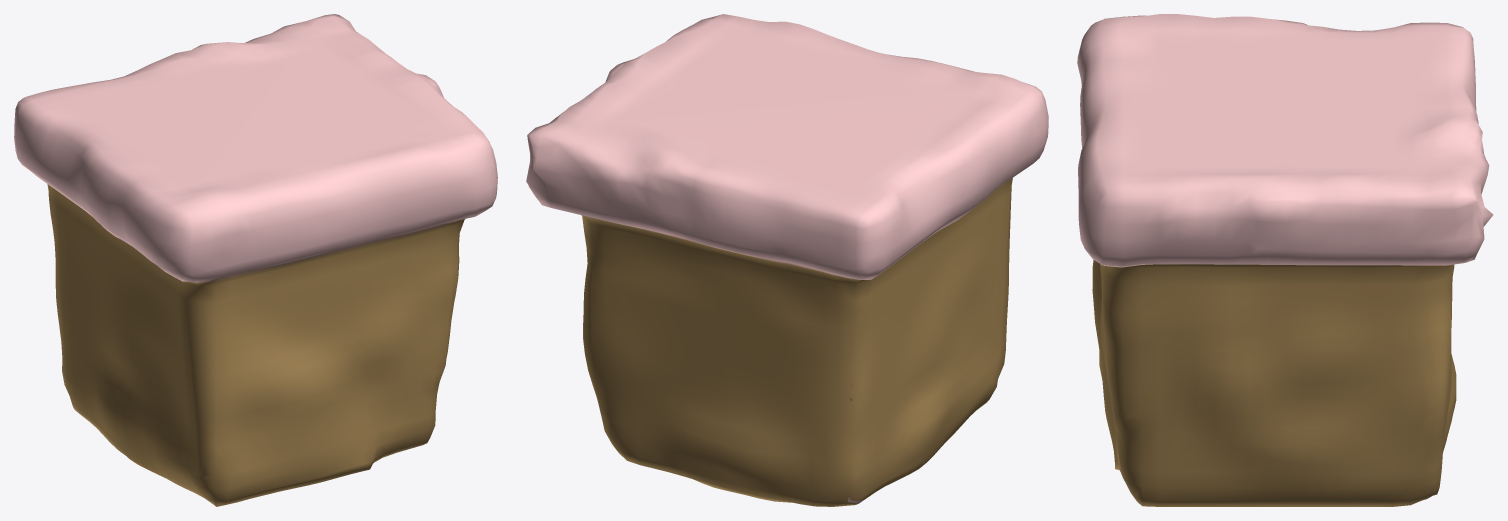
File: Ground2.fbx
The picture shows the model from 3 angles, left to right: view 1: azimuth 30°, elevation 25°; view 2: azimuth 150°, elevation 25°; view 3: azimuth 270°, elevation 25°; orthographic projection. The views are drawn at different scales.
Visible parts, largest first — view 1: Cube; view 2: Cube; view 3: Cube.
Boxes of the visible parts, x1=… form: Cube: x1=14, y1=14, x2=497, y2=506; Cube: x1=526, y1=14, x2=1048, y2=506; Cube: x1=1077, y1=14, x2=1493, y2=506.
Size of the model in its own units: 249 by 223 by 232.
1 material, 1 textured.
